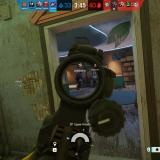Character: (75, 72, 85, 90)
Friend_label: (74, 63, 86, 72), (91, 64, 100, 71), (15, 76, 22, 82)
Head: (80, 72, 82, 75)
